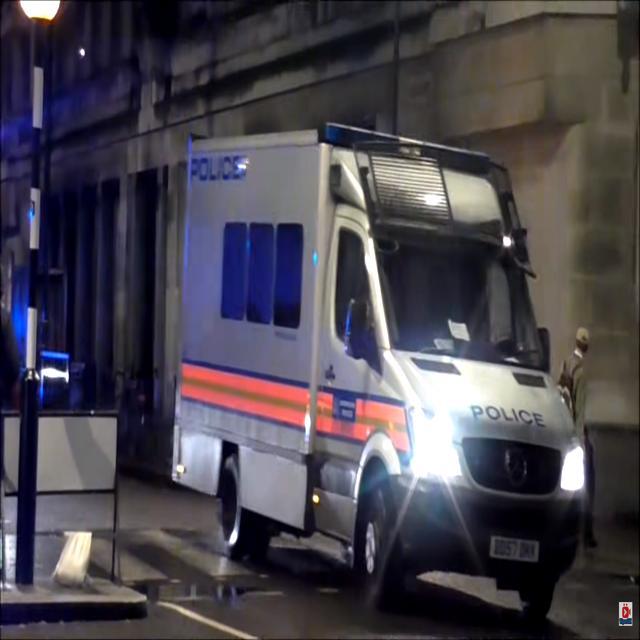emergency-vehicles: (162, 118, 594, 632)
